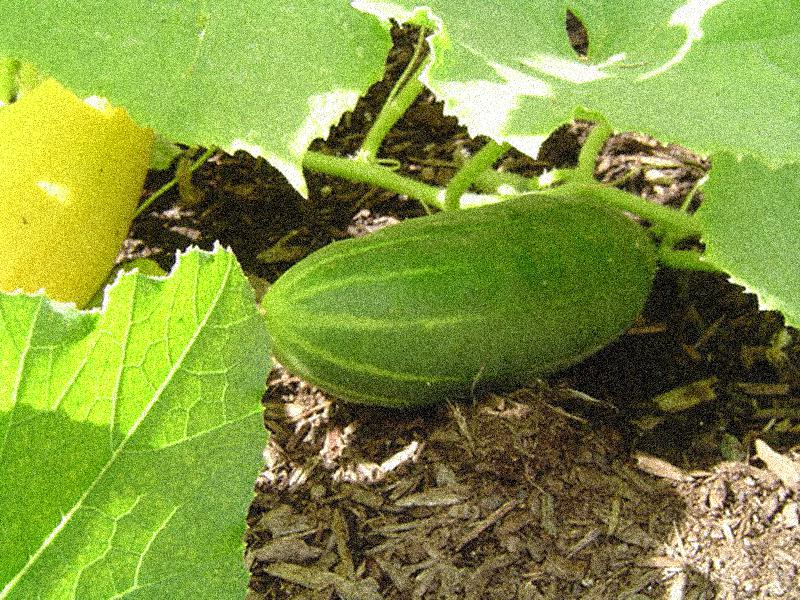Cucumber: (259, 192, 658, 410)
